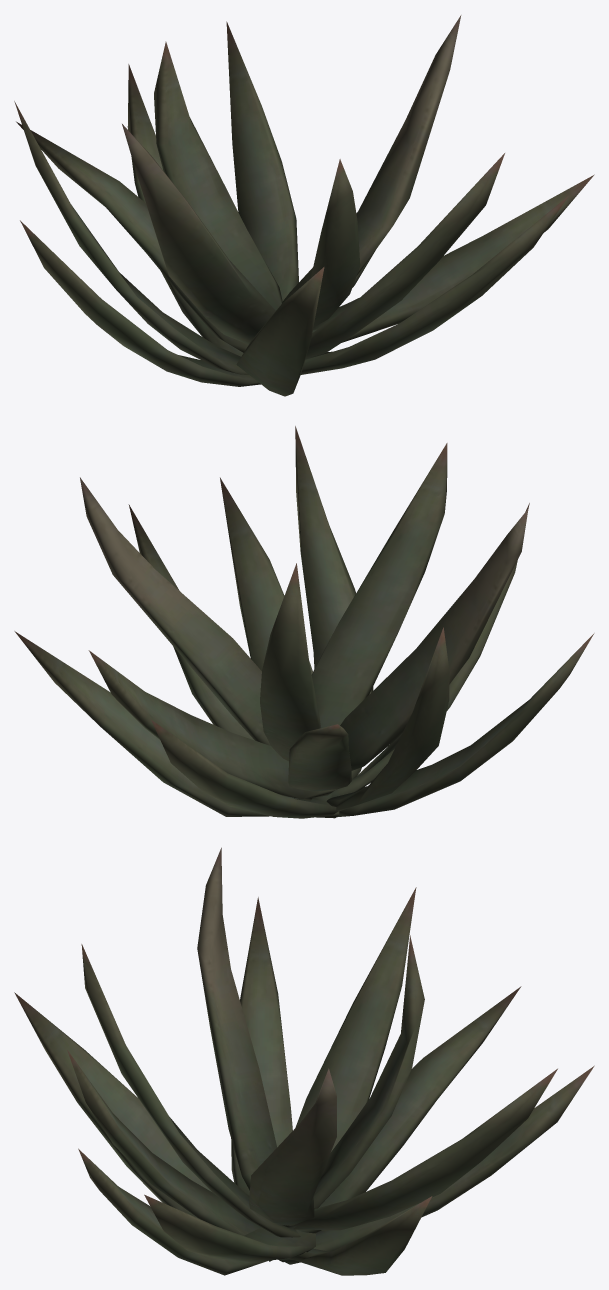
File: cactus-5.glb
The picture shows the model from 3 angles, top to bottom: view 1: azimuth 30°, elevation 25°; view 2: azimuth 150°, elevation 25°; view 3: azimuth 270°, elevation 25°; orthographic projection.
Visible parts, largest first — view 1: DE_Cactus_B_01; view 2: DE_Cactus_B_01; view 3: DE_Cactus_B_01.
Part boxes in pixels (x1,y1,x2,y2): DE_Cactus_B_01: (14,15,594,396); DE_Cactus_B_01: (14,426,594,818); DE_Cactus_B_01: (14,847,594,1275).
Size of the model in its own units: 2.45 by 1.44 by 2.34.
1 material, 1 textured.
